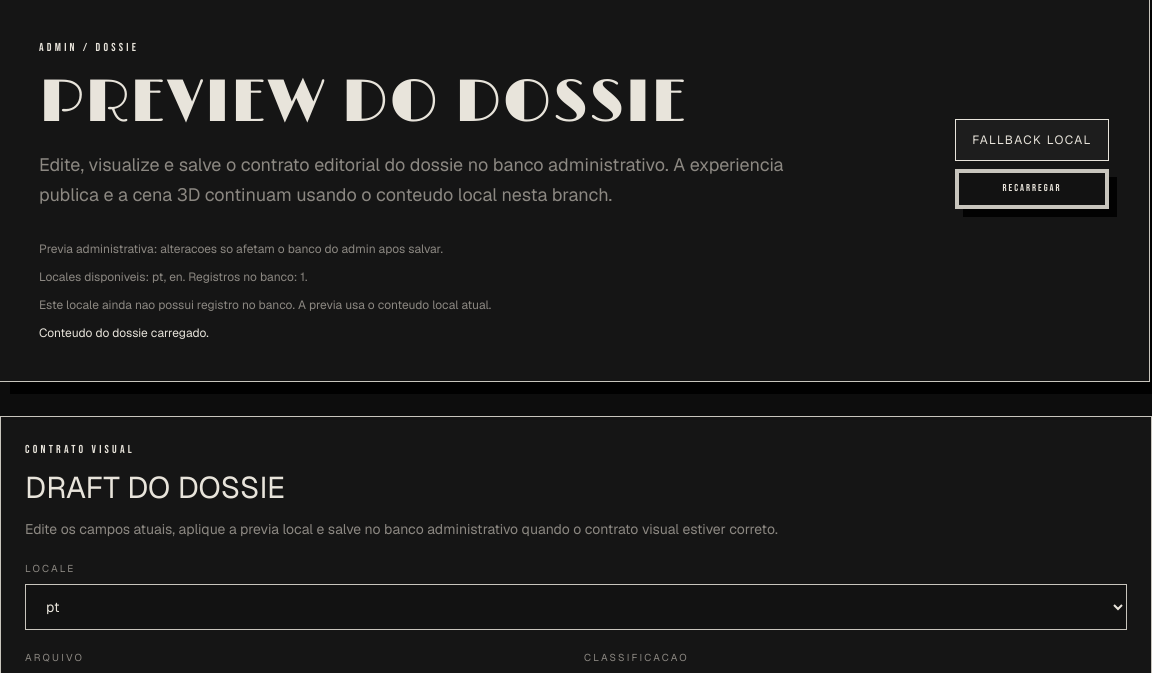
AdminDossierPreviewPage › shows database origin when the API returns persisted content
Expected: the text "Conteudo do dossie carregado." is shown, [39, 325, 209, 341]
Select "en" in the dropdown labelled "Locale". click: (576, 607)
box: [25, 584, 1127, 630]
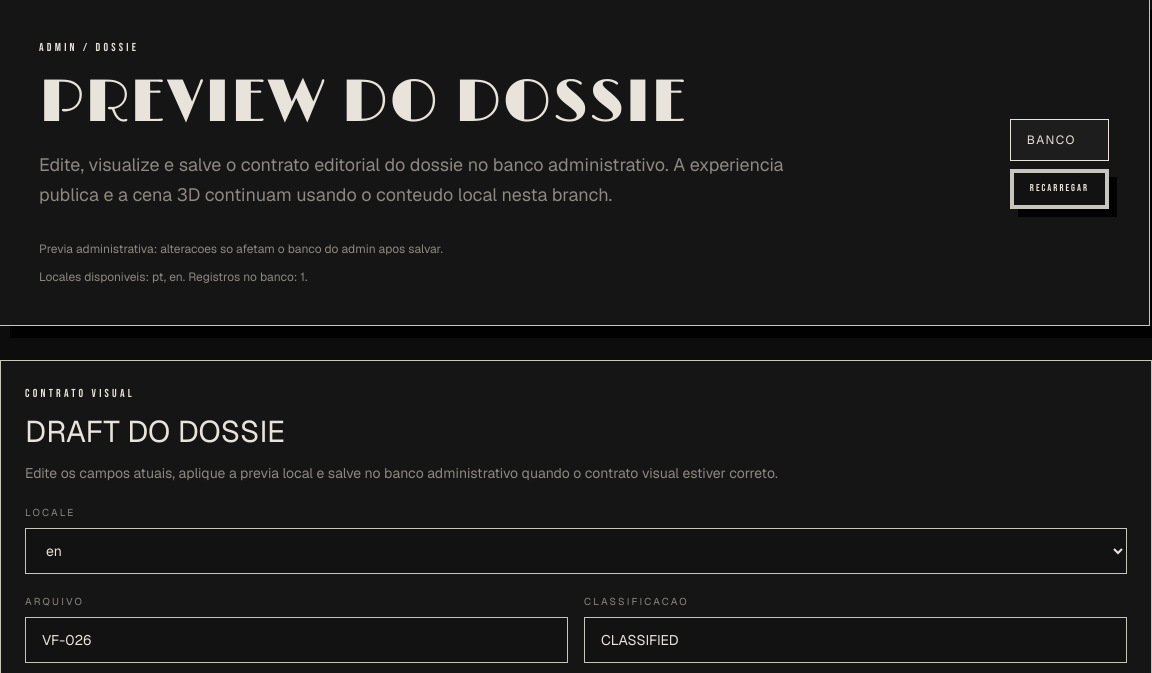
Now the text "Banco" is shown, box [1010, 119, 1109, 161]
